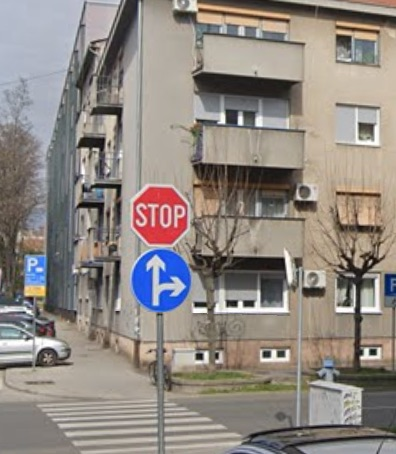Obavezno zaustavljanje: (131, 184, 190, 247)
